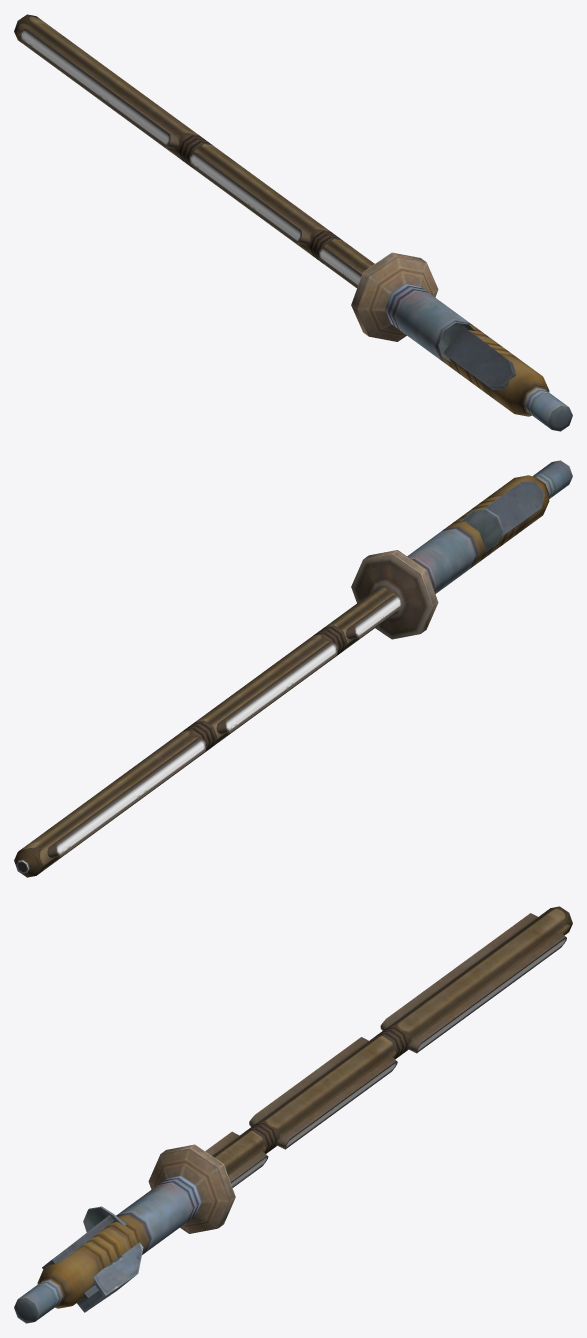
The model's file is electroblade.glb.
The picture shows the model from 3 angles, top to bottom: view 1: azimuth 30°, elevation 25°; view 2: azimuth 150°, elevation 25°; view 3: azimuth 330°, elevation 25°; orthographic projection.
Parts seen in each view (by area): view 1: electroblade_low03_a01_v01; view 2: electroblade_low03_a01_v01; view 3: electroblade_low03_a01_v01.
Part boxes in pixels (bbox=[...]): electroblade_low03_a01_v01: bbox=[14, 14, 572, 431]; electroblade_low03_a01_v01: bbox=[14, 460, 572, 877]; electroblade_low03_a01_v01: bbox=[14, 906, 572, 1323].
Bounding box in the file's own units: 0.0106 × 0.0106 × 0.1217.
1 material, 1 textured.
